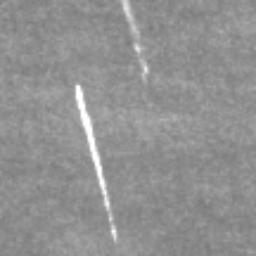Bright scratch: (75, 84, 117, 241), (122, 0, 149, 73)
